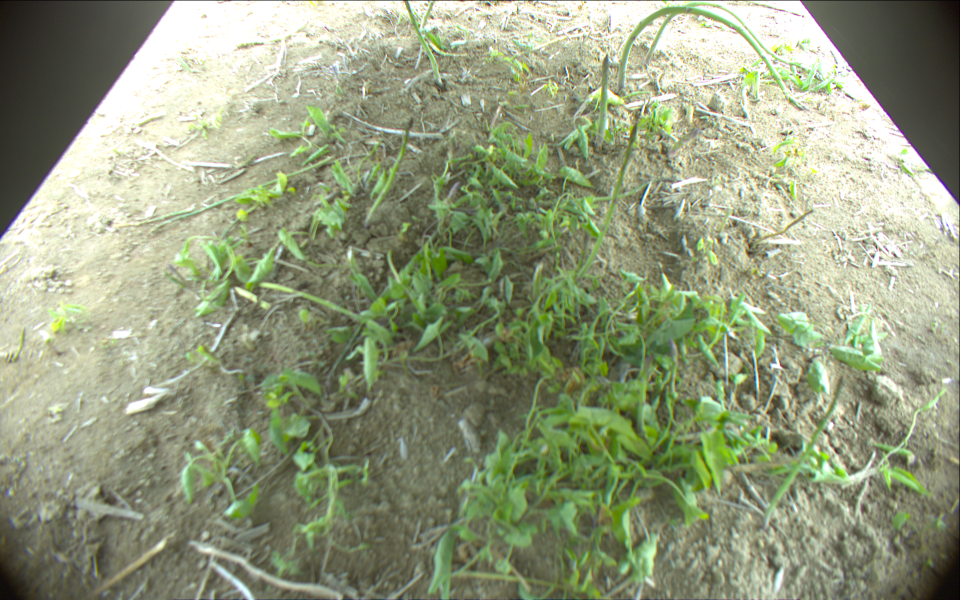aspa: (618, 11, 811, 111), (644, 1, 830, 85), (762, 371, 847, 527), (572, 115, 641, 279), (258, 278, 391, 345), (362, 121, 415, 226), (405, 1, 442, 87), (412, 1, 435, 69), (600, 55, 608, 148)
